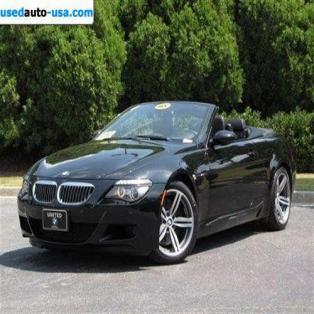Auto: (19, 100, 298, 263)
